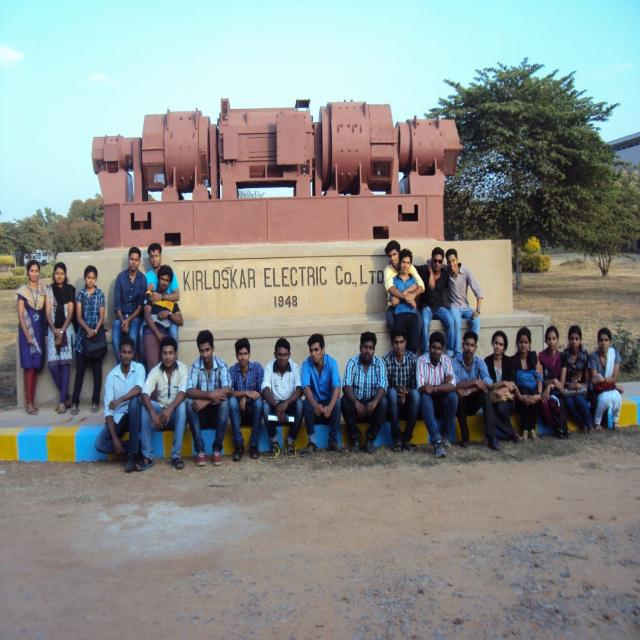body: (131, 334, 191, 474), (92, 332, 148, 476), (184, 326, 234, 467), (425, 246, 484, 361), (338, 327, 390, 457), (68, 262, 110, 416), (298, 330, 348, 459), (13, 256, 52, 417), (450, 330, 501, 452), (259, 334, 307, 462), (414, 329, 460, 460), (42, 259, 78, 415), (224, 335, 267, 463), (380, 322, 422, 453), (480, 328, 524, 446), (140, 241, 181, 364), (142, 264, 184, 370), (508, 323, 544, 445), (112, 246, 148, 366), (417, 246, 454, 358), (384, 239, 426, 337), (537, 324, 572, 440), (587, 326, 624, 434), (387, 246, 421, 356), (563, 324, 594, 436)
